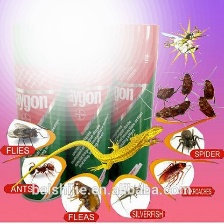aerosol_cans: (7, 21, 69, 203), (60, 22, 117, 192), (106, 19, 162, 187)
